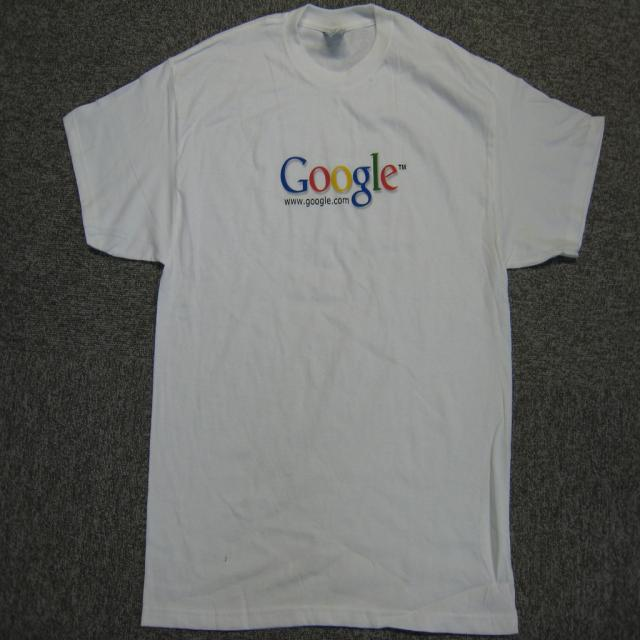google: (278, 146, 404, 210)
